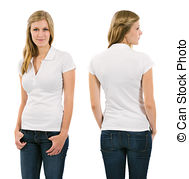face: (113, 8, 147, 46), (26, 7, 55, 50)
